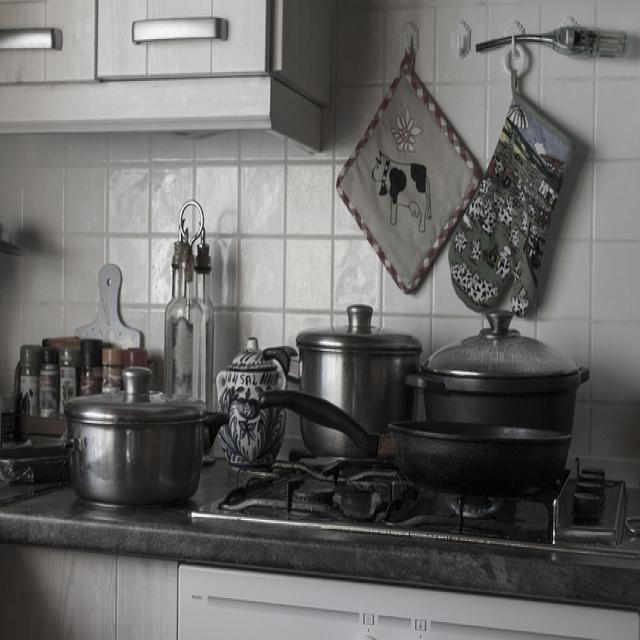cow: (369, 148, 430, 231)
